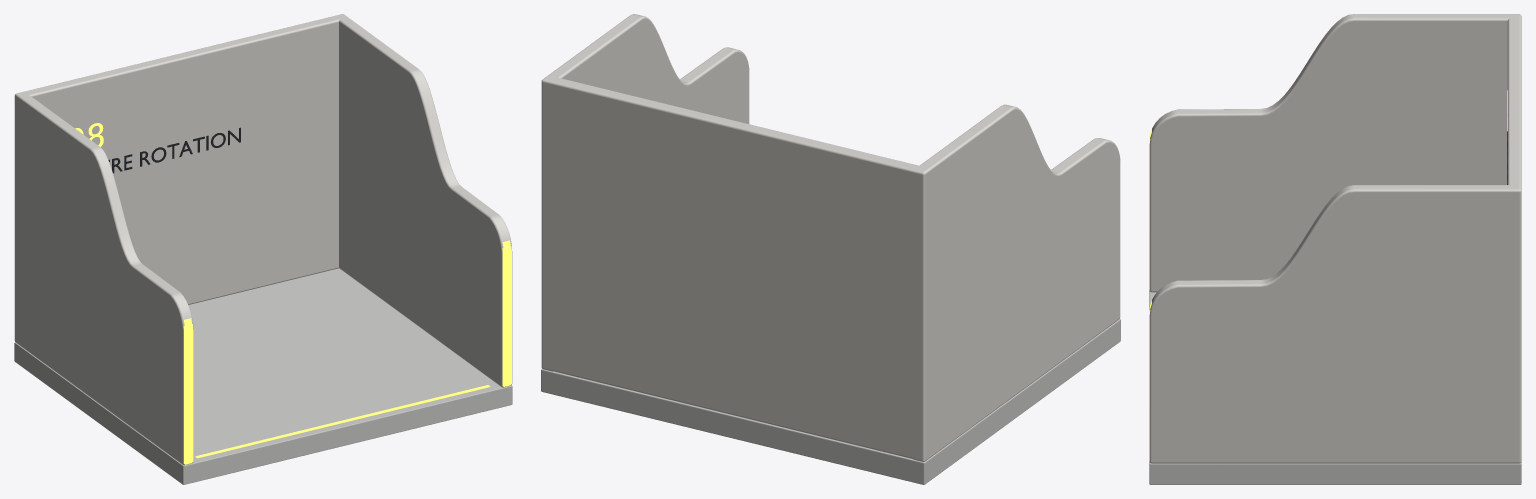
Rendered from Room_08_sphere-rotation.glb.
The picture shows the model from 3 angles, left to right: view 1: azimuth 30°, elevation 25°; view 2: azimuth 150°, elevation 25°; view 3: azimuth 270°, elevation 25°; orthographic projection. The views are drawn at different scales.
Parts seen in each view (by area): view 1: Walls, Floor, Label, Accent; view 2: Walls, Floor; view 3: Walls, Floor.
Part boxes in pixels (x1=…): Walls: x1=14, y1=14, x2=512, y2=465; Floor: x1=14, y1=268, x2=512, y2=484; Label: x1=75, y1=123, x2=240, y2=173; Accent: x1=195, y1=385, x2=490, y2=458; Walls: x1=541, y1=14, x2=1120, y2=461; Floor: x1=541, y1=319, x2=1120, y2=484; Walls: x1=1149, y1=14, x2=1521, y2=463; Floor: x1=1149, y1=291, x2=1521, y2=484.
Bounding box in the file's own units: 3.6 × 2.8 × 3.2.
